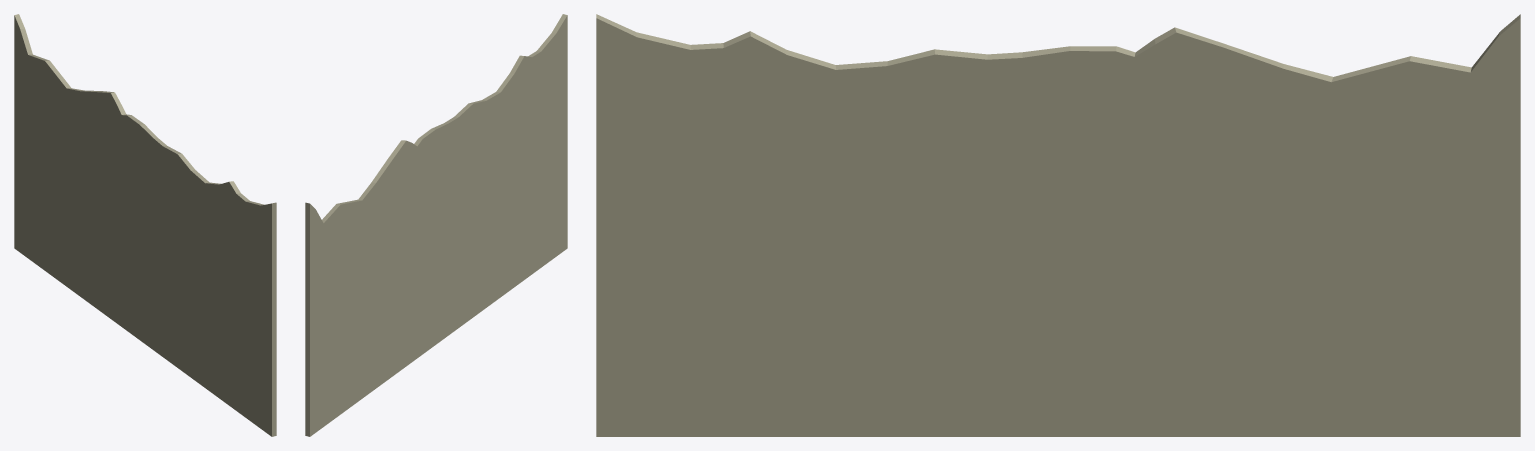
The model's file is LargeWallChipped.fbx.
3 renders of one model, left to right at view 1: azimuth 30°, elevation 25°; view 2: azimuth 150°, elevation 25°; view 3: azimuth 270°, elevation 25°, orthographic. The views are drawn at different scales.
Parts seen in each view (by area): view 1: LargeWallChipped; view 2: LargeWallChipped; view 3: LargeWallChipped.
Boxes of the visible parts, bbox=[...] form: LargeWallChipped: bbox=[14, 14, 276, 436]; LargeWallChipped: bbox=[305, 14, 567, 436]; LargeWallChipped: bbox=[596, 14, 1520, 436].
Bounding box in the file's own units: 0.2551 × 12 × 24.
